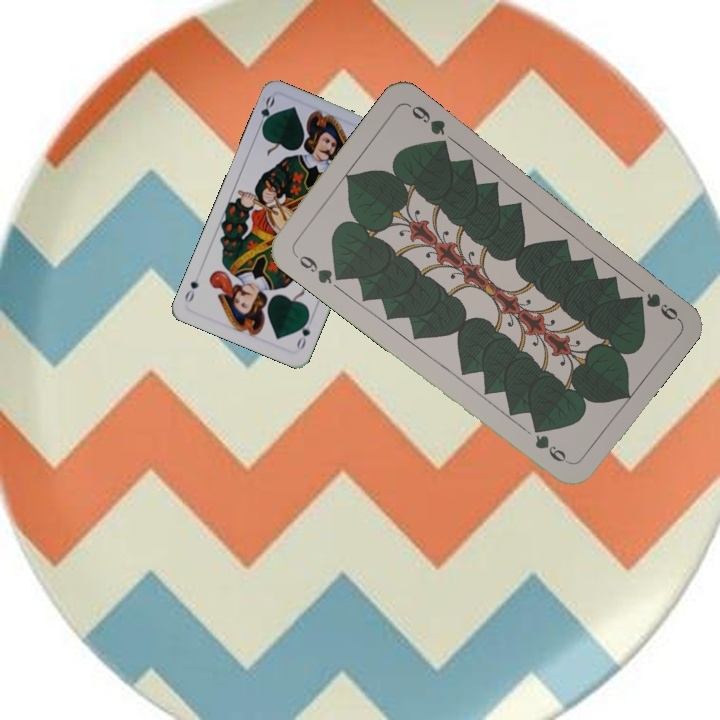G9: (290, 249, 346, 287), (642, 289, 681, 323)
GO: (254, 92, 277, 133), (292, 313, 313, 352)
